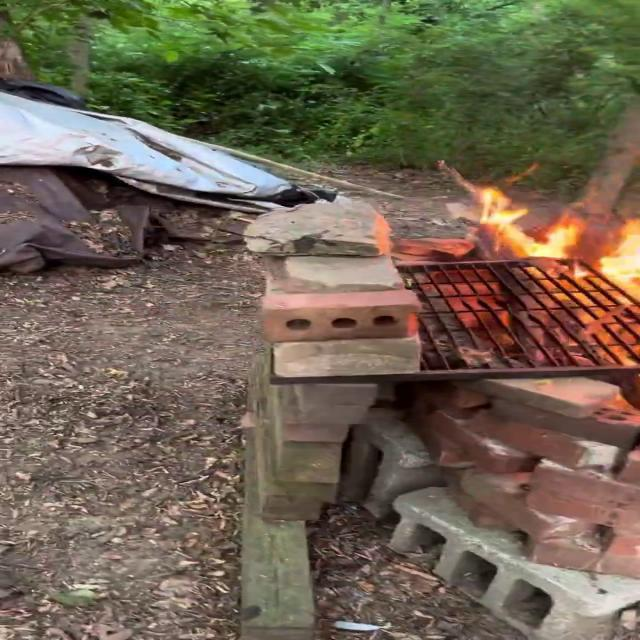Fire: (454, 184, 630, 275)
